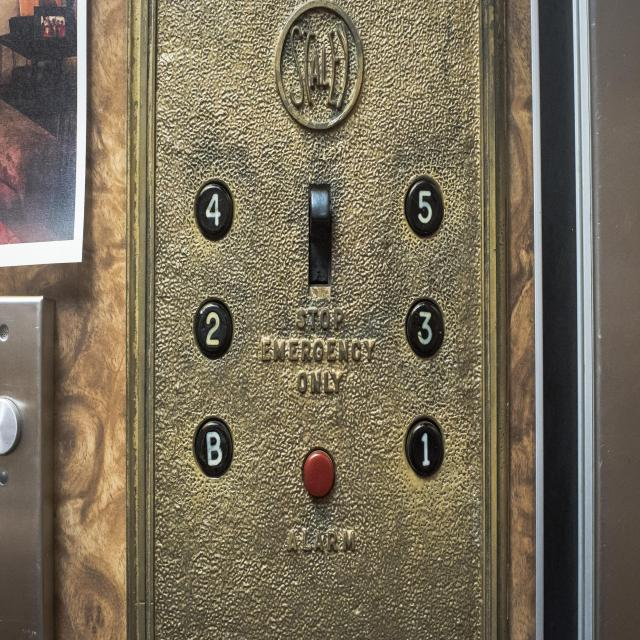1: (404, 413, 445, 481)
2: (192, 294, 234, 358)
3: (405, 296, 444, 358)
4: (193, 179, 234, 242)
5: (401, 173, 445, 240)
B: (192, 416, 234, 478)
empty: (302, 448, 336, 498)
switch: (305, 181, 336, 302)
